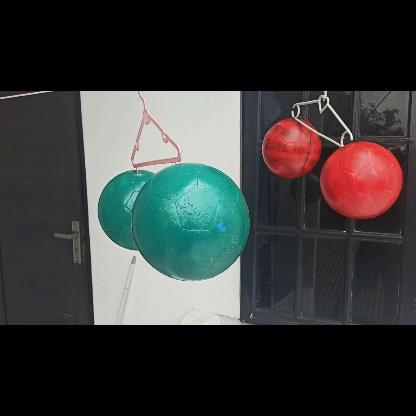red_ball: (324, 140, 402, 218), (264, 120, 322, 176)
